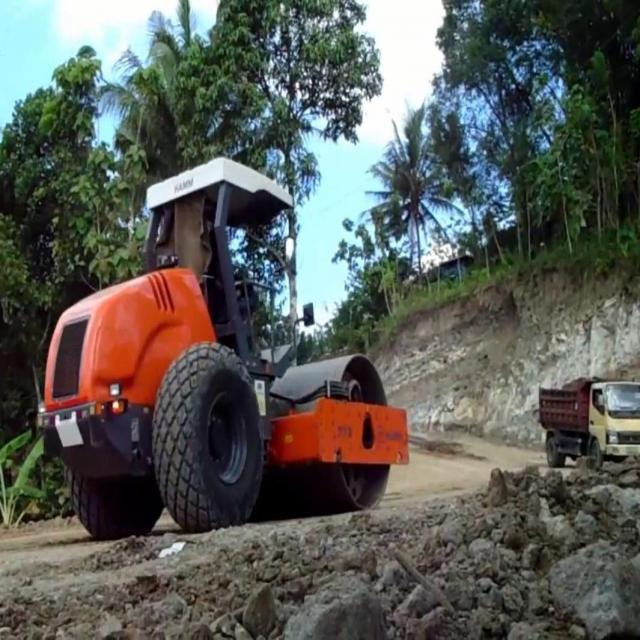Dump Truck: (535, 374, 639, 467)
Roller: (41, 158, 410, 519)
